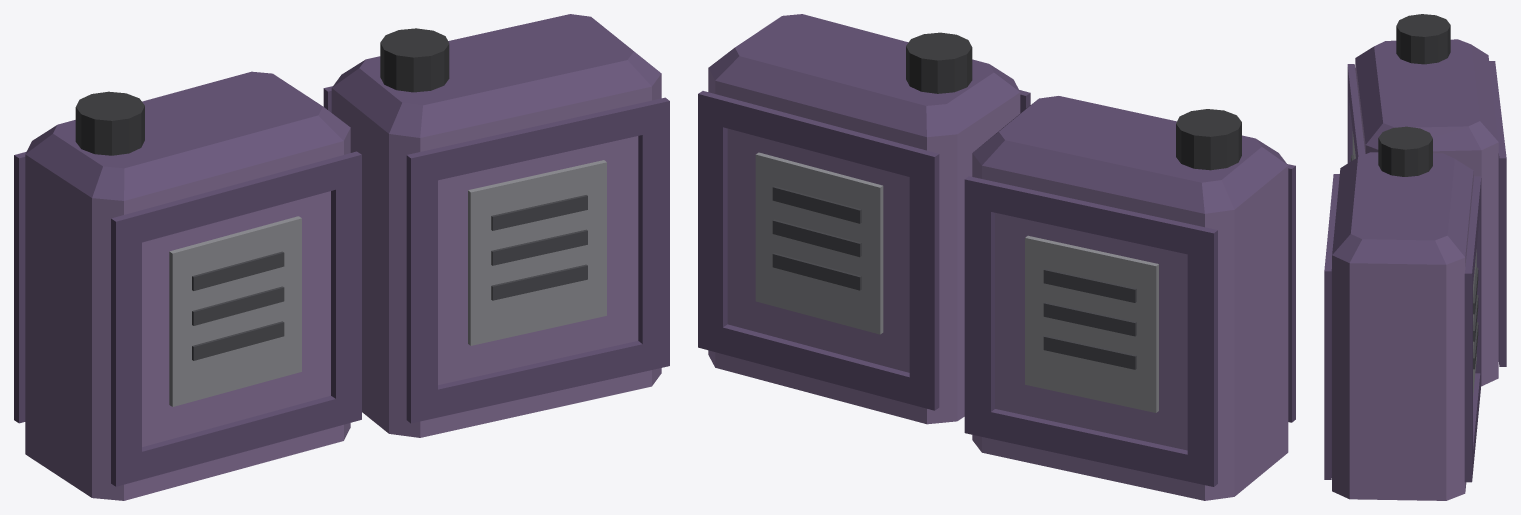
File: vge_item_astrofuel_b.obj
3 renders of one model, left to right at view 1: azimuth 30°, elevation 25°; view 2: azimuth 150°, elevation 25°; view 3: azimuth 270°, elevation 25°, orthographic. The views are drawn at different scales.
Visible parts, largest first — view 1: vge_item_astrofuel_b_0, vge_item_astrofuel_b_19, vge_item_astrofuel_b_20, vge_item_astrofuel_b_1, vge_item_astrofuel_b_25, vge_item_astrofuel_b_6, vge_item_astrofuel_b_21, vge_item_astrofuel_b_22, vge_item_astrofuel_b_2, vge_item_astrofuel_b_3, vge_item_astrofuel_b_24, vge_item_astrofuel_b_23 (+11 smaller); view 2: vge_item_astrofuel_b_0, vge_item_astrofuel_b_19, vge_item_astrofuel_b_1, vge_item_astrofuel_b_20, vge_item_astrofuel_b_14, vge_item_astrofuel_b_33, vge_item_astrofuel_b_29, vge_item_astrofuel_b_10, vge_item_astrofuel_b_11, vge_item_astrofuel_b_30, vge_item_astrofuel_b_13, vge_item_astrofuel_b_12 (+11 smaller); view 3: vge_item_astrofuel_b_19, vge_item_astrofuel_b_20, vge_item_astrofuel_b_1, vge_item_astrofuel_b_0, vge_item_astrofuel_b_18, vge_item_astrofuel_b_37, vge_item_astrofuel_b_30, vge_item_astrofuel_b_11, vge_item_astrofuel_b_22, vge_item_astrofuel_b_29, vge_item_astrofuel_b_5, vge_item_astrofuel_b_32 (+4 smaller).
Part boxes in pixels (<box>): vge_item_astrofuel_b_0: <box>25,128,350,500</box>; vge_item_astrofuel_b_19: <box>331,74,661,437</box>; vge_item_astrofuel_b_20: <box>332,14,661,137</box>; vge_item_astrofuel_b_1: <box>25,71,350,200</box>; vge_item_astrofuel_b_25: <box>468,160,606,345</box>; vge_item_astrofuel_b_6: <box>169,216,301,406</box>; vge_item_astrofuel_b_21: <box>406,149,437,423</box>; vge_item_astrofuel_b_22: <box>638,97,669,371</box>; vge_item_astrofuel_b_2: <box>111,211,141,486</box>; vge_item_astrofuel_b_3: <box>331,151,361,426</box>; vge_item_astrofuel_b_24: <box>434,103,642,180</box>; vge_item_astrofuel_b_23: <box>438,341,642,417</box>; vge_item_astrofuel_b_0: <box>972,153,1288,500</box>; vge_item_astrofuel_b_19: <box>708,68,1020,424</box>; vge_item_astrofuel_b_1: <box>972,96,1287,213</box>; vge_item_astrofuel_b_20: <box>708,14,1019,137</box>; vge_item_astrofuel_b_14: <box>1025,235,1158,412</box>; vge_item_astrofuel_b_33: <box>755,152,883,334</box>; vge_item_astrofuel_b_29: <box>909,147,939,410</box>; vge_item_astrofuel_b_10: <box>1187,224,1217,486</box>; vge_item_astrofuel_b_11: <box>964,176,994,438</box>; vge_item_astrofuel_b_30: <box>698,91,727,353</box>; vge_item_astrofuel_b_13: <box>991,182,1191,254</box>; vge_item_astrofuel_b_12: <box>991,409,1187,481</box>; vge_item_astrofuel_b_19: <box>1332,171,1473,500</box>; vge_item_astrofuel_b_20: <box>1332,152,1473,264</box>; vge_item_astrofuel_b_1: <box>1355,39,1498,151</box>; vge_item_astrofuel_b_0: <box>1355,60,1498,386</box>; vge_item_astrofuel_b_18: <box>1396,14,1450,64</box>; vge_item_astrofuel_b_37: <box>1378,126,1432,176</box>; vge_item_astrofuel_b_30: <box>1464,263,1472,482</box>; vge_item_astrofuel_b_11: <box>1498,148,1506,366</box>; vge_item_astrofuel_b_22: <box>1324,261,1331,479</box>; vge_item_astrofuel_b_29: <box>1473,176,1481,393</box>; vge_item_astrofuel_b_5: <box>1348,74,1364,157</box>; vge_item_astrofuel_b_32: <box>1466,186,1480,283</box>.
Size of the model in its own units: 0.8467 by 0.51 by 0.3008.
